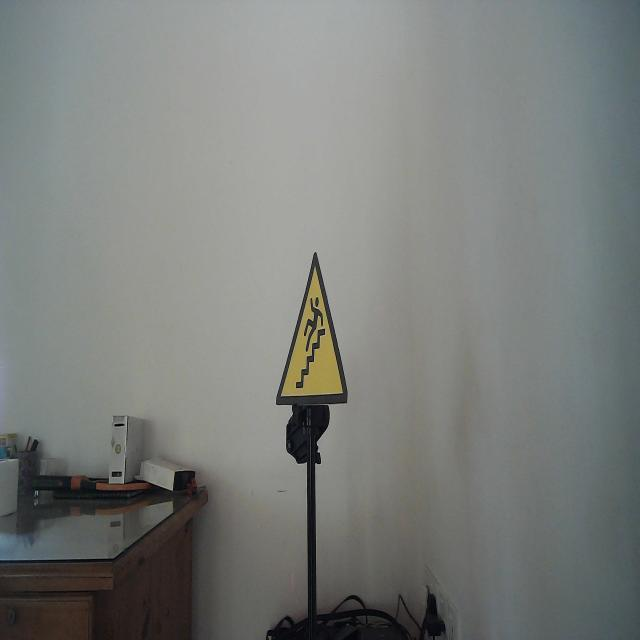stairs: (274, 249, 350, 408)
